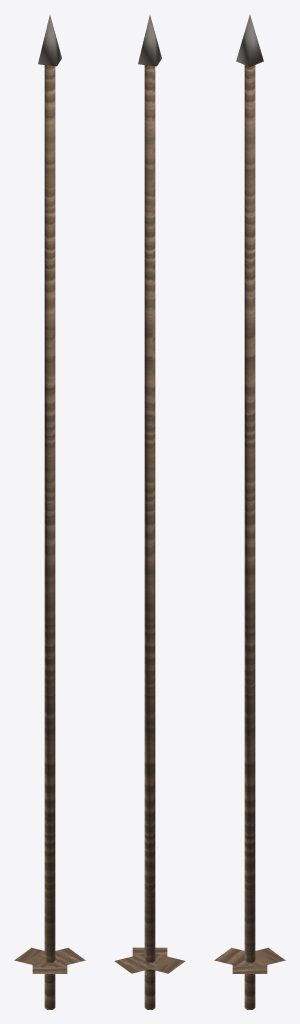
The model's file is arrow.fbx.
3 views of the same model, side by side, from view 1: azimuth 30°, elevation 25°; view 2: azimuth 210°, elevation 25°; view 3: azimuth 270°, elevation 25° (orthographic).
Visible parts, largest first — view 1: arrow; view 2: arrow; view 3: arrow.
Part boxes in pixels (left/top/right/bottom): arrow: left=14, top=15, right=85, bottom=1009; arrow: left=114, top=15, right=185, bottom=1009; arrow: left=214, top=15, right=285, bottom=1009.
Size of the model in its own units: 0.0357 by 0.63 by 0.0412.
2 materials, 1 textured.
